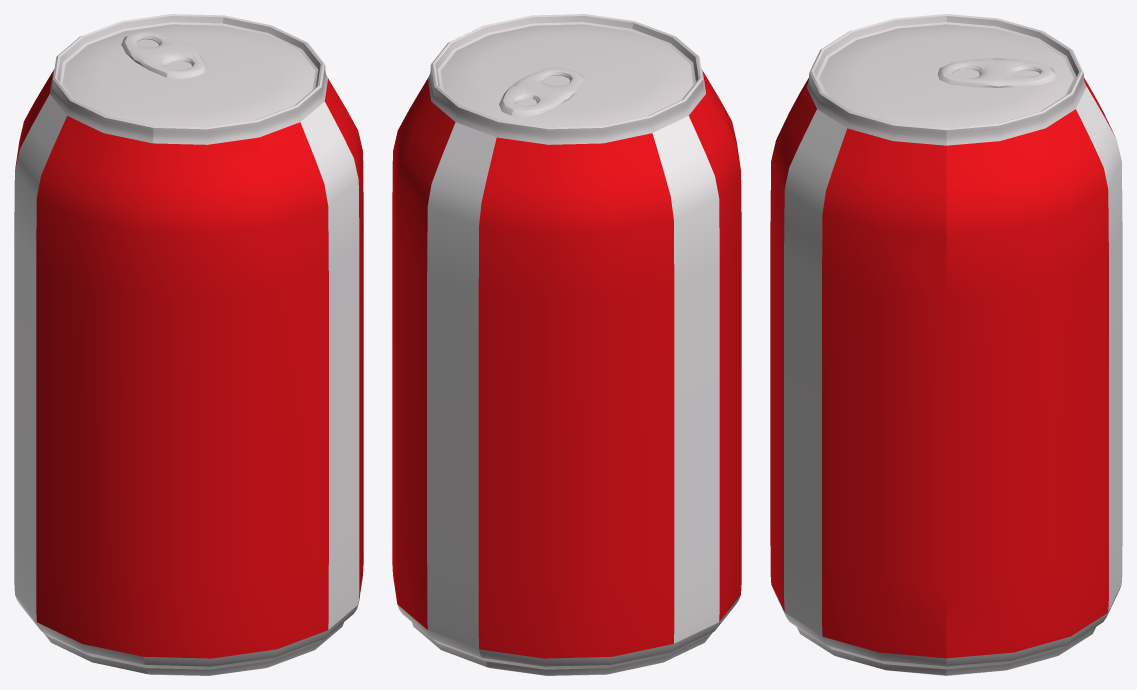
Rendered from Soda Can.fbx.
3 renders of one model, left to right at view 1: azimuth 30°, elevation 25°; view 2: azimuth 150°, elevation 25°; view 3: azimuth 270°, elevation 25°, orthographic.
Parts seen in each view (by area): view 1: Object_0; view 2: Object_0; view 3: Object_0.
Boxes of the visible parts, x1,y1,x2,y2 form: Object_0: (14, 14, 363, 675); Object_0: (392, 14, 741, 675); Object_0: (770, 14, 1122, 675).
Size of the model in its own units: 7544 by 12854 by 7544.
Materials: 1 (1 with a texture image).
